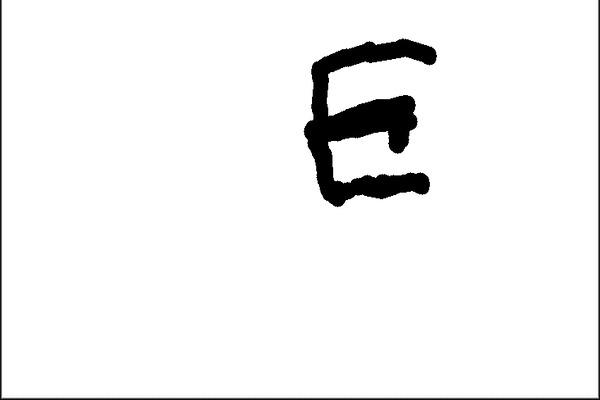E: (301, 34, 443, 210)
